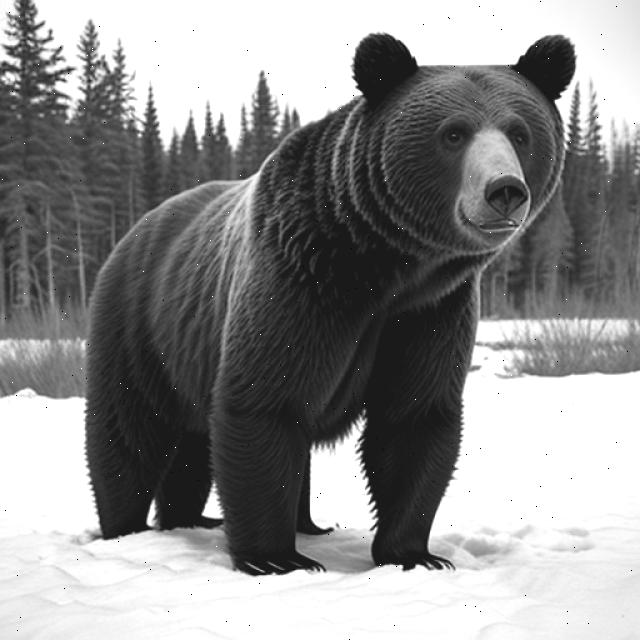bear: (90, 7, 602, 576)
